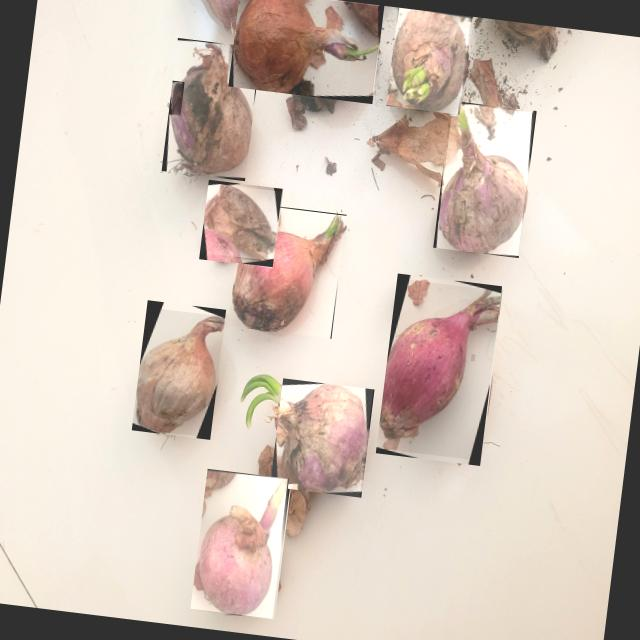rotten: (232, 215, 345, 330), (439, 104, 526, 253), (168, 43, 252, 175), (136, 315, 224, 432), (277, 384, 367, 492), (392, 9, 467, 111), (203, 185, 276, 260), (170, 83, 182, 114), (322, 21, 334, 29), (321, 11, 330, 18), (325, 0, 330, 11), (336, 19, 341, 25)
sprouting: (379, 290, 500, 450), (234, 0, 377, 93), (195, 478, 288, 615), (470, 355, 475, 361)
